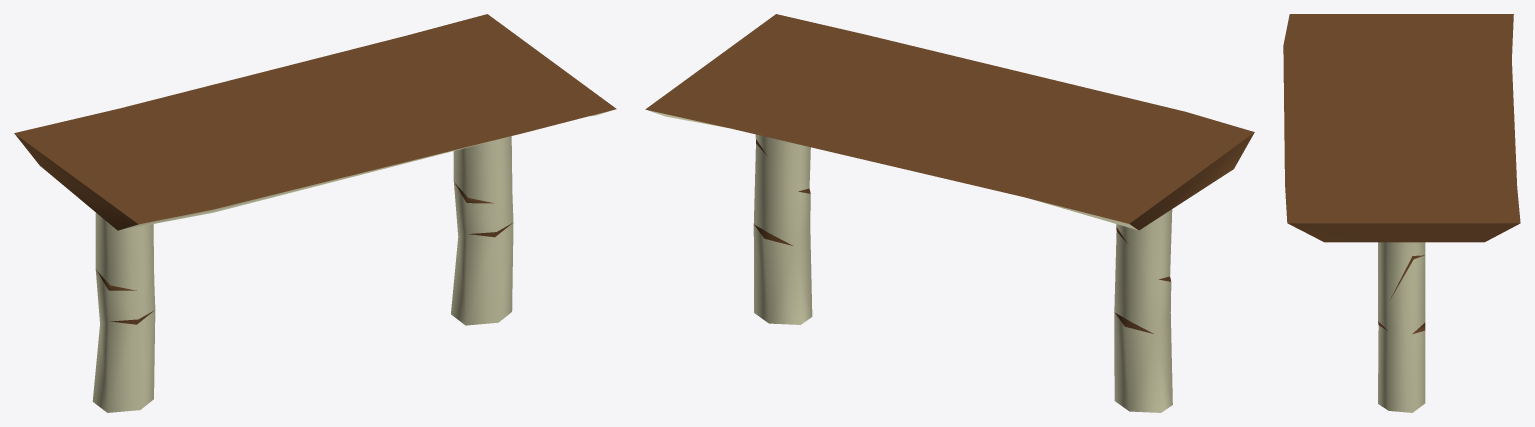
The model's file is aspenTable.glb.
3 renders of one model, left to right at view 1: azimuth 30°, elevation 25°; view 2: azimuth 150°, elevation 25°; view 3: azimuth 270°, elevation 25°, orthographic. The views are drawn at different scales.
Visible parts, largest first — view 1: Cylinder.002, Cylinder, Cylinder.001; view 2: Cylinder.002, Cylinder, Cylinder.001; view 3: Cylinder.002, Cylinder.001.
Boxes of the visible parts, x1=… form: Cylinder.002: x1=14, y1=14, x2=616, y2=230; Cylinder: x1=92, y1=212, x2=155, y2=412; Cylinder.001: x1=451, y1=136, x2=513, y2=325; Cylinder.002: x1=645, y1=14, x2=1254, y2=230; Cylinder: x1=1114, y1=209, x2=1172, y2=412; Cylinder.001: x1=753, y1=134, x2=812, y2=324; Cylinder.002: x1=1283, y1=14, x2=1520, y2=242; Cylinder.001: x1=1378, y1=242, x2=1425, y2=412.
Bounding box in the file's own units: 2.01 × 0.9513 × 0.9641.
